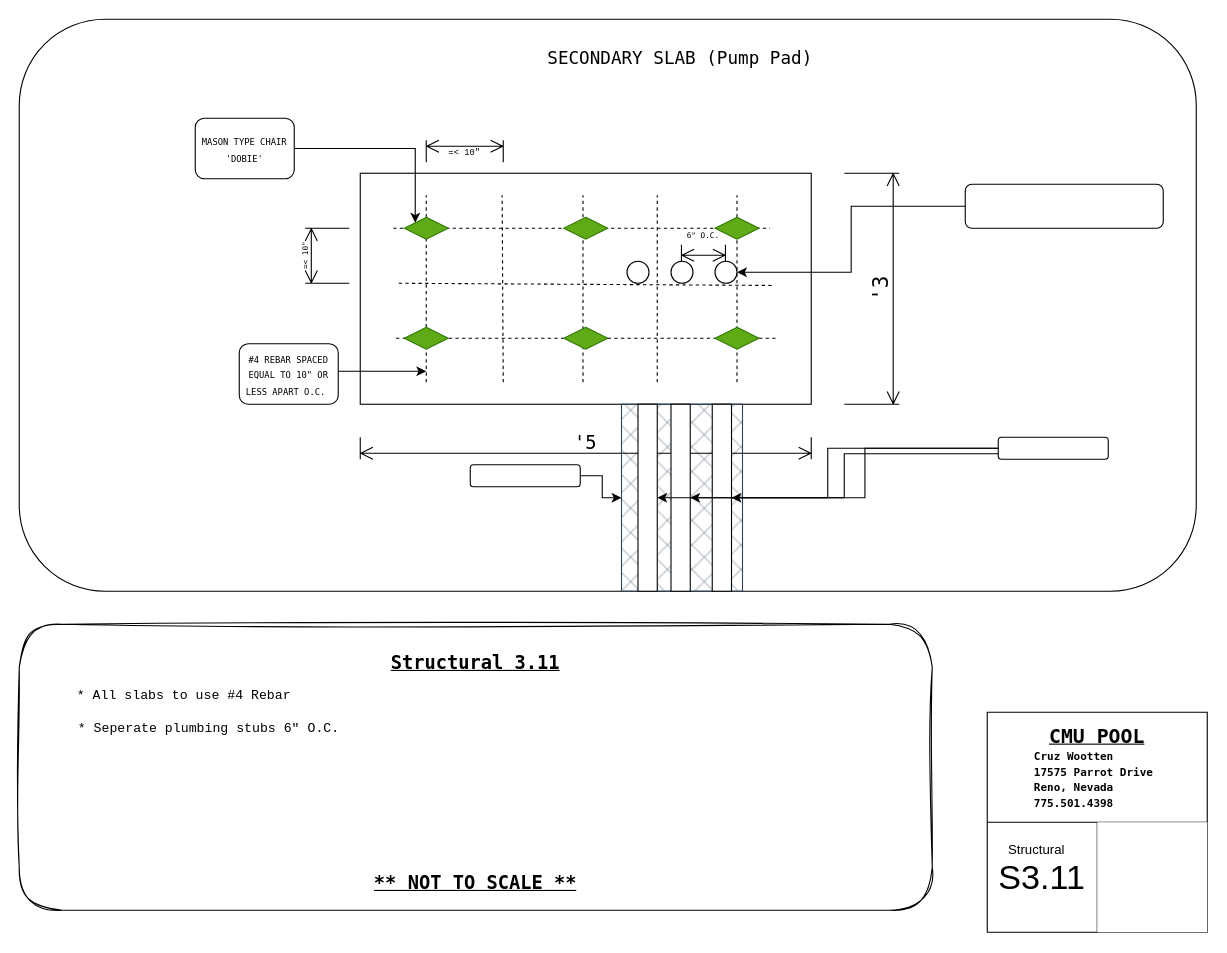
This 1227x953 diagram has some shape labels left out. The centre of each missing label's shape, as x and y in pixels:
Drawing Page /: point (1152, 877)
MAIN TRENCH: point (524, 475)
SCH 40 1 1/4 PVC: point (1052, 447)
SCH 40 1"1/4 PVC STUBS SPACED 6" O.C. THRU SLAB WITH >/= 6" EXTRUSION: point (1063, 205)
